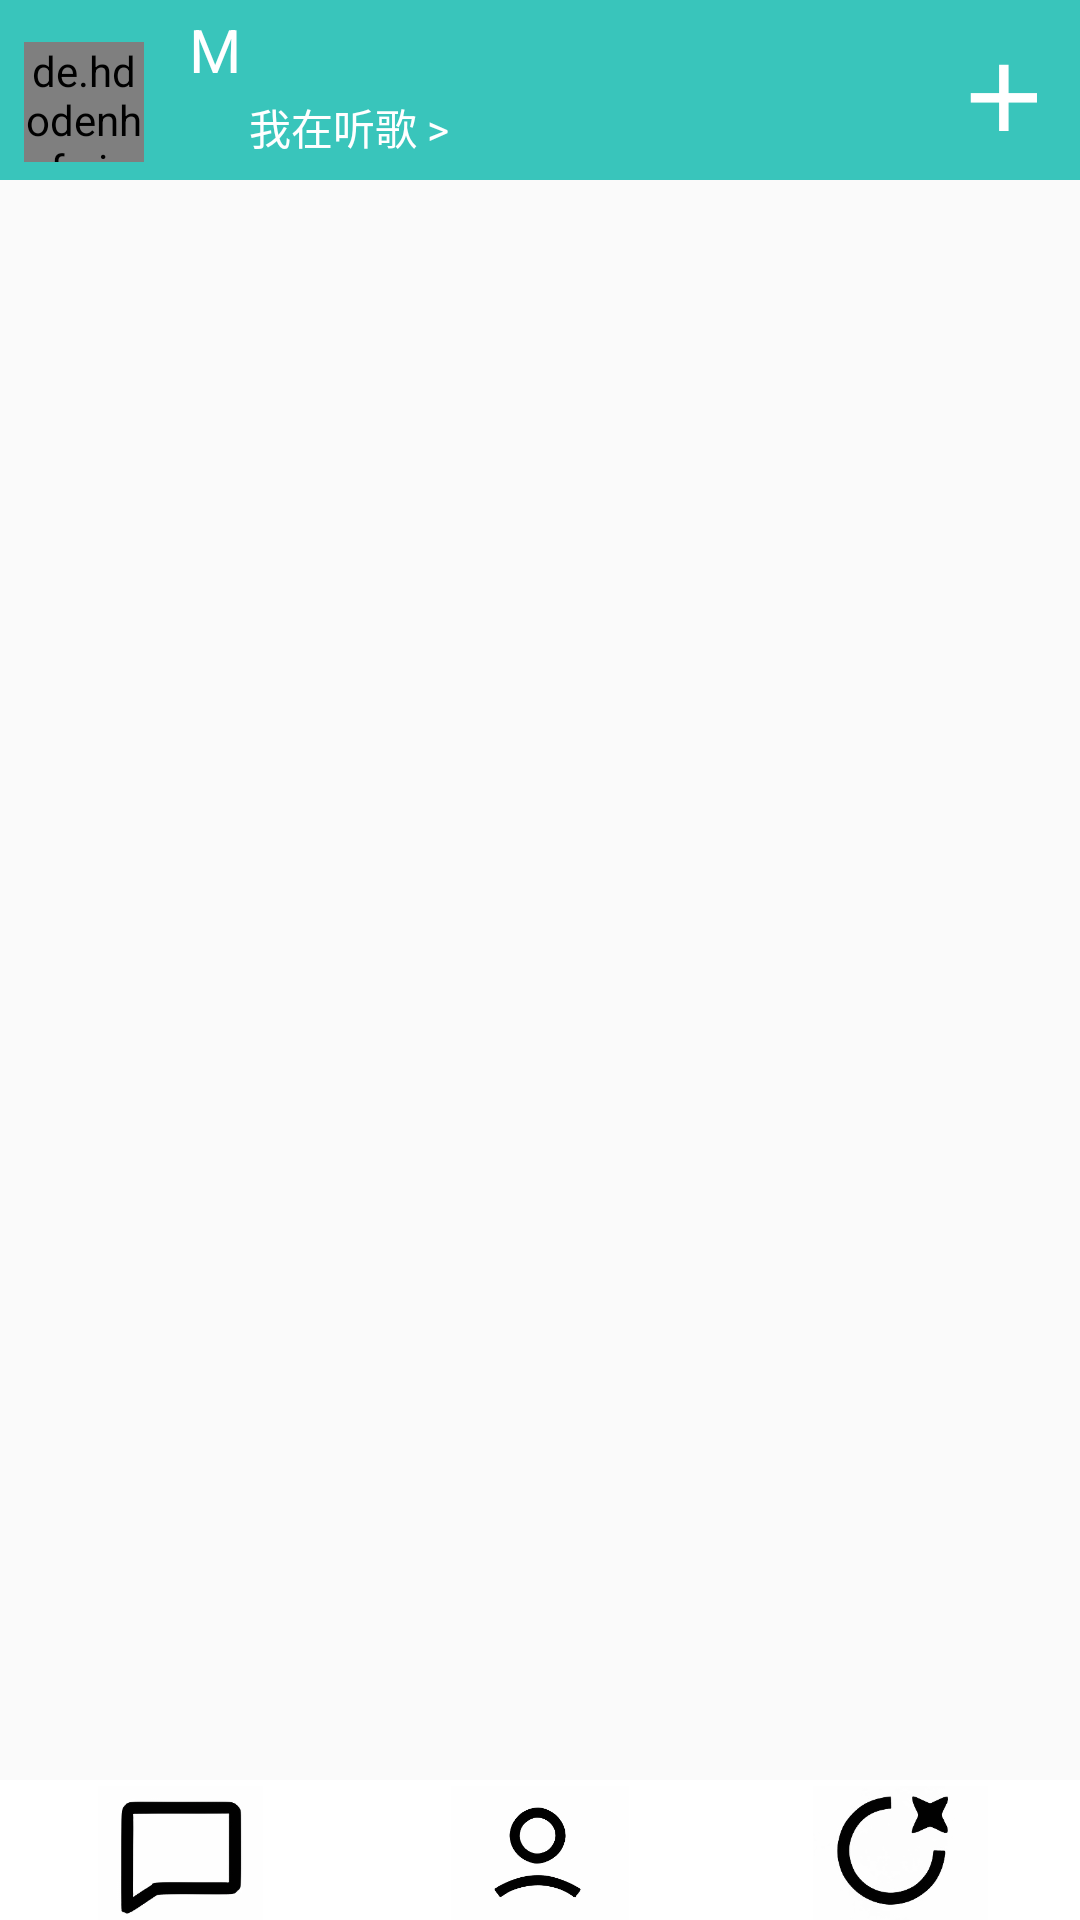

Locate icon controls on the screen. Image size 1080 × 1920, boxes as (x1=x1, y1=y1, x2=x2, y2=y2).
add ok: (x1=970, y1=64, x2=1037, y2=131)
con: (x1=494, y1=1807, x2=581, y2=1897)
mes: (x1=121, y1=1801, x2=241, y2=1914)
